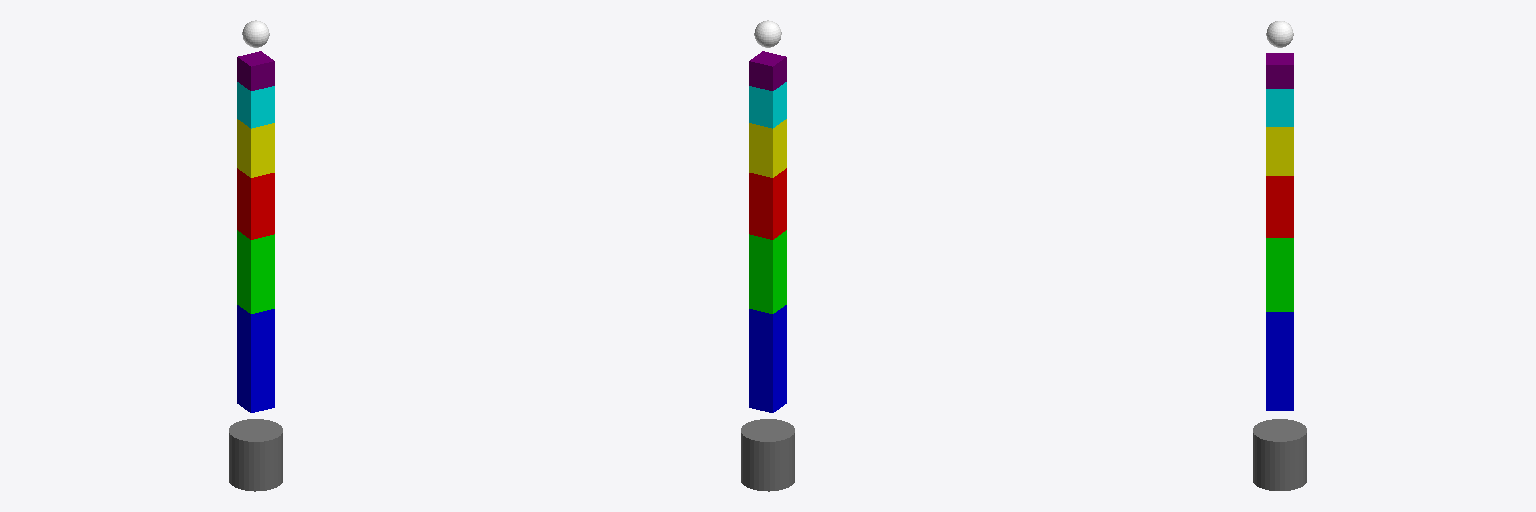
robot.urdf — ur5e:
<?xml version="1.0"?>

<robot name="ur5e">
    
    <!-- Base Link -->
    <link name="base_link">
        <visual>
            <geometry>
                <cylinder radius="0.1" length="0.2"/>
            </geometry>
            <origin xyz="0 0 0" rpy="0 0 0"/>
            <material name="gray">
                <color rgba="0.5 0.5 0.5 1.0"/>
            </material>
        </visual>
    </link>

    <!-- Joint 1 -->
    <joint name="shoulder_pan_joint" type="revolute">
        <parent link="base_link"/>
        <child link="shoulder_link"/>
        <origin xyz="0 0 0.2" rpy="0 0 0"/>
        <axis xyz="0 0 1"/>
        <limit lower="-3.14" upper="3.14" effort="100" velocity="1"/>
    </joint>

    <!-- Shoulder Link -->
    <link name="shoulder_link">
        <visual>
            <geometry>
                <box size="0.1 0.1 0.4"/>
            </geometry>
            <origin xyz="0 0 0.2" rpy="0 0 0"/>
            <material name="blue">
                <color rgba="0.0 0.0 1.0 1.0"/>
            </material>
        </visual>
    </link>

    <!-- Joint 2 -->
    <joint name="shoulder_lift_joint" type="revolute">
        <parent link="shoulder_link"/>
        <child link="upper_arm_link"/>
        <origin xyz="0 0 0.4" rpy="0 0 0"/>
        <axis xyz="0 1 0"/>
        <limit lower="-1.57" upper="1.57" effort="100" velocity="1"/>
    </joint>

    <!-- Upper Arm Link -->
    <link name="upper_arm_link">
        <visual>
            <geometry>
                <box size="0.1 0.1 0.3"/>
            </geometry>
            <origin xyz="0 0 0.15" rpy="0 0 0"/>
            <material name="green">
                <color rgba="0.0 1.0 0.0 1.0"/>
            </material>
        </visual>
    </link>

    <!-- Joint 3 -->
    <joint name="elbow_joint" type="revolute">
        <parent link="upper_arm_link"/>
        <child link="forearm_link"/>
        <origin xyz="0 0 0.3" rpy="0 0 0"/>
        <axis xyz="0 1 0"/>
        <limit lower="-1.57" upper="1.57" effort="100" velocity="1"/>
    </joint>

    <!-- Forearm Link -->
    <link name="forearm_link">
        <visual>
            <geometry>
                <box size="0.1 0.1 0.25"/>
            </geometry>
            <origin xyz="0 0 0.125" rpy="0 0 0"/>
            <material name="red">
                <color rgba="1.0 0.0 0.0 1.0"/>
            </material>
        </visual>
    </link>

    <!-- Joint 4 -->
    <joint name="wrist_1_joint" type="revolute">
        <parent link="forearm_link"/>
        <child link="wrist_1_link"/>
        <origin xyz="0 0 0.25" rpy="0 0 0"/>
        <axis xyz="0 0 1"/>
        <limit lower="-3.14" upper="3.14" effort="100" velocity="1"/>
    </joint>

    <!-- Wrist 1 Link -->
    <link name="wrist_1_link">
        <visual>
            <geometry>
                <box size="0.1 0.1 0.2"/>
            </geometry>
            <origin xyz="0 0 0.1" rpy="0 0 0"/>
            <material name="yellow">
                <color rgba="1.0 1.0 0.0 1.0"/>
            </material>
        </visual>
    </link>

    <!-- Joint 5 -->
    <joint name="wrist_2_joint" type="revolute">
        <parent link="wrist_1_link"/>
        <child link="wrist_2_link"/>
        <origin xyz="0 0 0.2" rpy="0 0 0"/>
        <axis xyz="0 1 0"/>
        <limit lower="-3.14" upper="3.14" effort="100" velocity="1"/>
    </joint>

    <!-- Wrist 2 Link -->
    <link name="wrist_2_link">
        <visual>
            <geometry>
                <box size="0.1 0.1 0.15"/>
            </geometry>
            <origin xyz="0 0 0.075" rpy="0 0 0"/>
            <material name="cyan">
                <color rgba="0.0 1.0 1.0 1.0"/>
            </material>
        </visual>
    </link>

    <!-- Joint 6 -->
    <joint name="wrist_3_joint" type="revolute">
        <parent link="wrist_2_link"/>
        <child link="wrist_3_link"/>
        <origin xyz="0 0 0.15" rpy="0 0 0"/>
        <axis xyz="0 0 1"/>
        <limit lower="-3.14" upper="3.14" effort="100" velocity="1"/>
    </joint>

    <!-- Wrist 3 Link -->
    <link name="wrist_3_link">
        <visual>
            <geometry>
                <box size="0.1 0.1 0.1"/>
            </geometry>
            <origin xyz="0 0 0.05" rpy="0 0 0"/>
            <material name="purple">
                <color rgba="0.5 0.0 0.5 1.0"/>
            </material>
        </visual>
    </link>

    <!-- End Effector -->
    <link name="end_effector">
        <visual>
            <geometry>
                <sphere radius="0.05"/>
            </geometry>
            <origin xyz="0 0 0.1" rpy="0 0 0"/>
            <material name="white">
                <color rgba="1.0 1.0 1.0 1.0"/>
            </material>
        </visual>
    </link>

    <!-- End Effector Joint -->
    <joint name="ee_fixed_joint" type="fixed">
        <parent link="wrist_3_link"/>
        <child link="end_effector"/>
        <origin xyz="0 0 0.1" rpy="0 0 0"/>
    </joint>

</robot> 

--- Render facts (derived) ---
Views: 3 orthographic renders of the robot side by side, from view 1: azimuth 30°, elevation 25°; view 2: azimuth 150°, elevation 25°; view 3: azimuth 270°, elevation 25°.
Robot: ur5e — 8 links, 7 joints (6 revolute, 1 fixed); root link base_link; default pose: all joints at 0.
Visible links, largest first — view 1: shoulder_link, base_link, upper_arm_link, forearm_link, wrist_1_link, wrist_2_link, wrist_3_link, end_effector; view 2: shoulder_link, base_link, upper_arm_link, forearm_link, wrist_1_link, wrist_2_link, wrist_3_link, end_effector; view 3: base_link, shoulder_link, upper_arm_link, forearm_link, wrist_1_link, wrist_2_link, wrist_3_link, end_effector.
Boxes of the visible links, x1,y1,x2,y2 form: shoulder_link: (237, 305, 274, 412); base_link: (229, 419, 282, 491); upper_arm_link: (237, 230, 274, 313); forearm_link: (237, 168, 274, 239); wrist_1_link: (237, 119, 274, 177); wrist_2_link: (237, 82, 274, 128); wrist_3_link: (237, 51, 274, 90); end_effector: (242, 20, 269, 47); shoulder_link: (749, 305, 786, 412); base_link: (741, 419, 794, 491); upper_arm_link: (749, 230, 786, 313); forearm_link: (749, 168, 786, 239); wrist_1_link: (749, 119, 786, 177); wrist_2_link: (749, 82, 786, 128); wrist_3_link: (749, 51, 786, 90); end_effector: (754, 20, 781, 47); base_link: (1253, 419, 1306, 490); shoulder_link: (1266, 312, 1293, 410); upper_arm_link: (1266, 238, 1293, 311); forearm_link: (1266, 176, 1293, 237); wrist_1_link: (1266, 127, 1293, 175); wrist_2_link: (1266, 89, 1293, 126); wrist_3_link: (1266, 53, 1293, 88); end_effector: (1266, 21, 1293, 47).
Bounding box of the posed robot: 0.2 × 0.2 × 1.85 m (x, y, z).
Geometry: primitives only (box / cylinder / sphere), no mesh files.